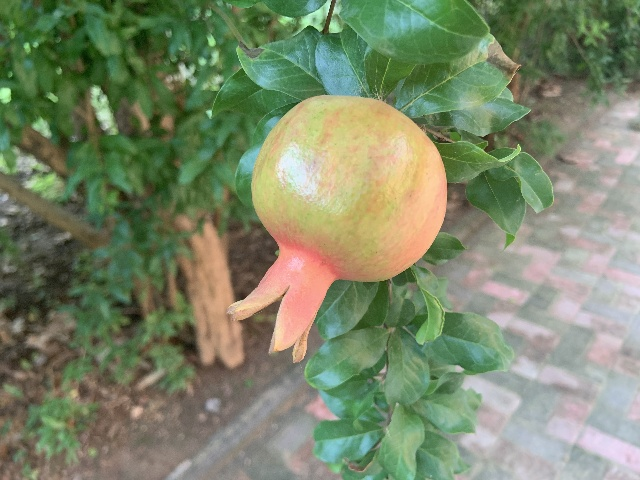mid-growth: (230, 93, 446, 363)
